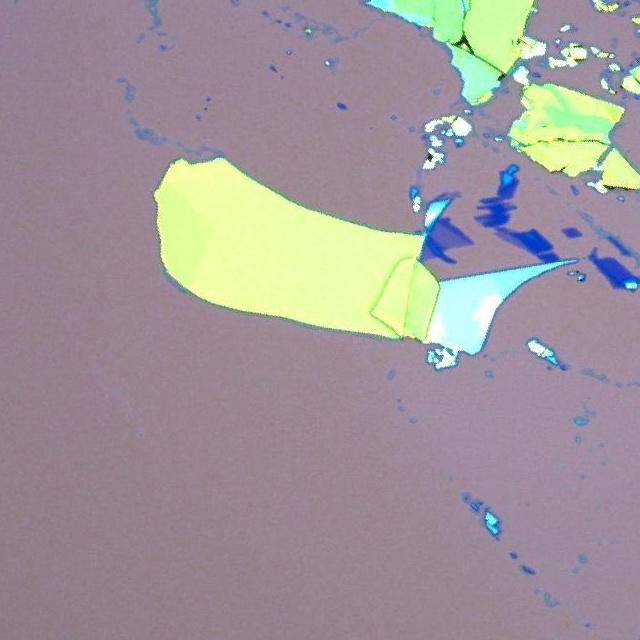monolayer-eWW4: (430, 221, 471, 248), (492, 232, 526, 252), (422, 246, 436, 266)
